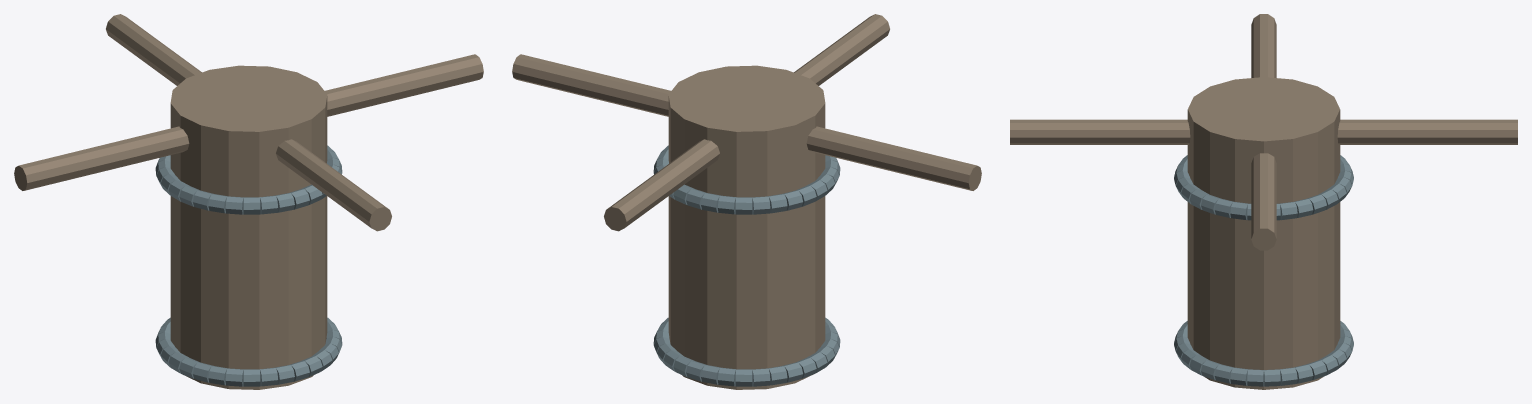
The model's file is a5_prop.glb.
The picture shows the model from 3 angles, left to right: view 1: azimuth 30°, elevation 25°; view 2: azimuth 150°, elevation 25°; view 3: azimuth 270°, elevation 25°; orthographic projection. The views are drawn at different scales.
Visible parts, largest first — view 1: Body.058; view 2: Body.058; view 3: Body.058.
Boxes of the visible parts, bbox=[...] form: Body.058: bbox=[14, 14, 483, 389]; Body.058: bbox=[512, 14, 981, 389]; Body.058: bbox=[1010, 14, 1517, 389].
Bounding box in the file's own units: 2 × 1.08 × 2.
